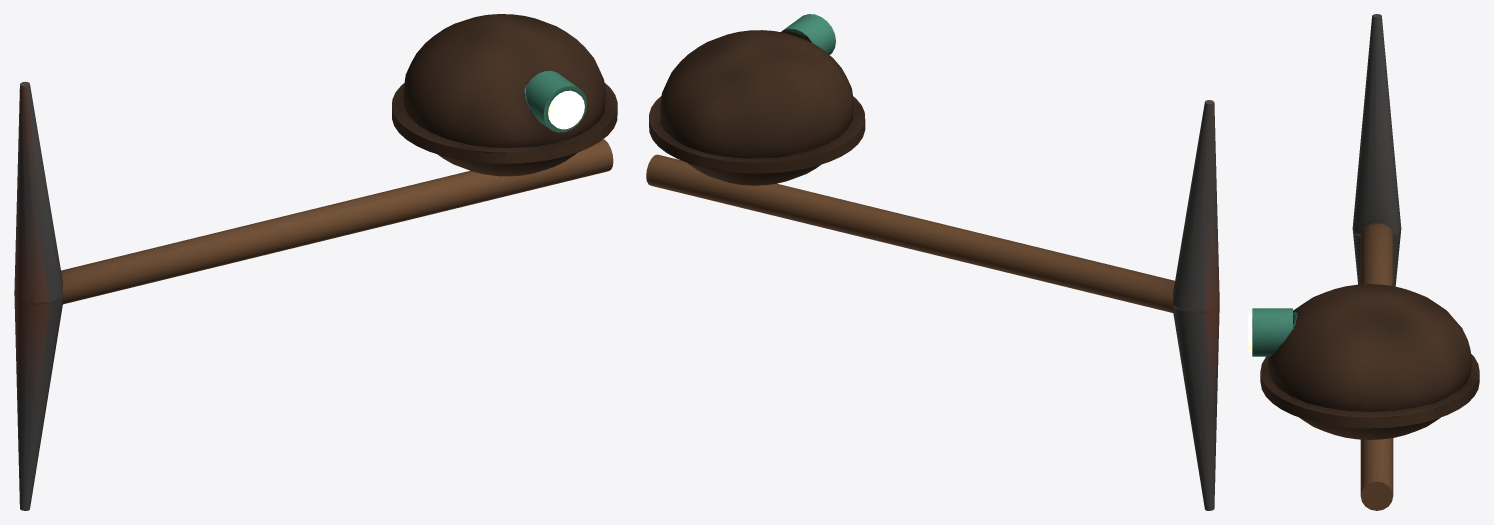
Rendered from npc_mineiro.glb.
3 renders of one model, left to right at view 1: azimuth 30°, elevation 25°; view 2: azimuth 150°, elevation 25°; view 3: azimuth 270°, elevation 25°, orthographic. The views are drawn at different scales.
Parts seen in each view (by area): view 1: mineiro_RightHand_peca, mineiro_Head_peca; view 2: mineiro_RightHand_peca, mineiro_Head_peca; view 3: mineiro_Head_peca, mineiro_RightHand_peca.
Part boxes in pixels (left/top/right/bottom): mineiro_RightHand_peca: left=14, top=81, right=613, bottom=510; mineiro_Head_peca: left=392, top=14, right=617, bottom=176; mineiro_RightHand_peca: left=646, top=100, right=1219, bottom=510; mineiro_Head_peca: left=649, top=14, right=865, bottom=185; mineiro_Head_peca: left=1248, top=284, right=1479, bottom=439; mineiro_RightHand_peca: left=1352, top=14, right=1401, bottom=510.
Size of the model in its own units: 0.8099 by 0.5609 by 0.285.
3 materials, 2 textured.
